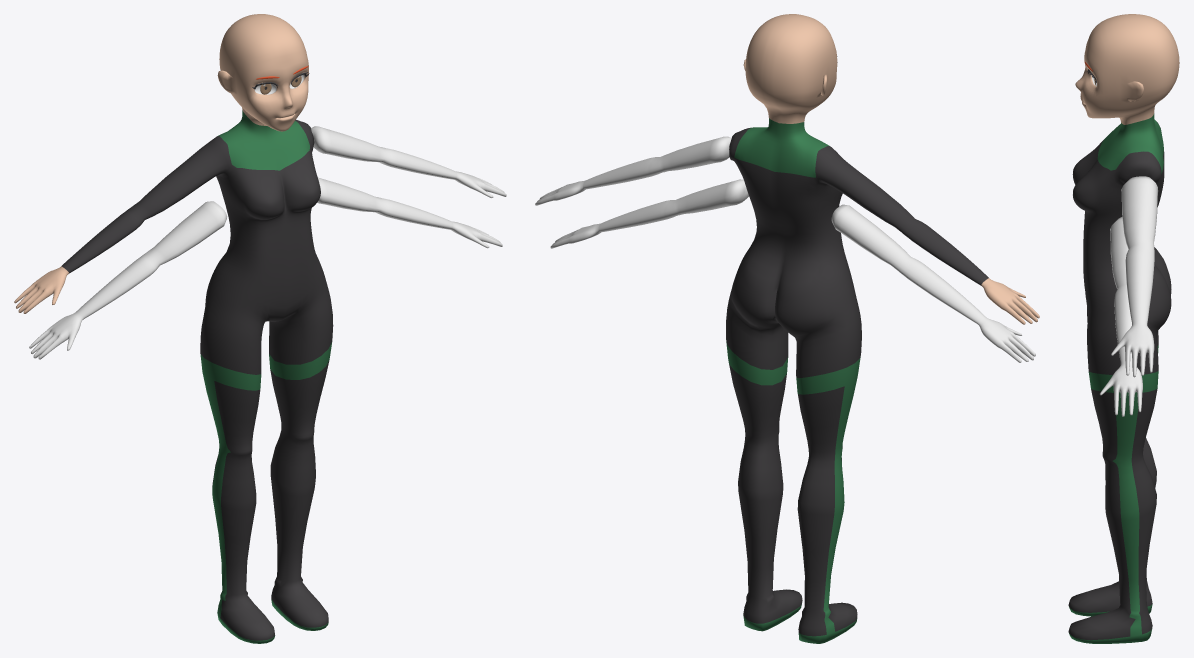
File: coreGL.fbx
3 views of the same model, side by side, from view 1: azimuth 30°, elevation 25°; view 2: azimuth 150°, elevation 25°; view 3: azimuth 270°, elevation 25° (orthographic). The views are drawn at different scales.
Visible parts, largest first — view 1: character; view 2: character; view 3: character.
Boxes of the visible parts, x1,y1,x2,y2 form: character: (14,14,506,643); character: (535,14,1039,643); character: (1068,14,1179,643).
Bounding box in the file's own units: 254 × 297 × 49.58.
